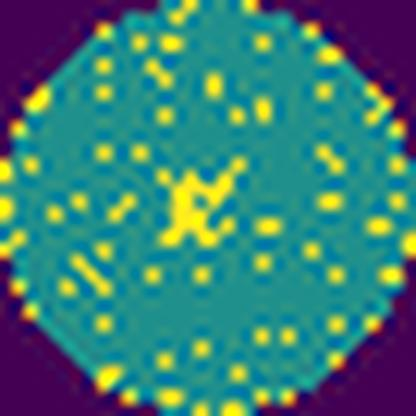Center: (158, 153, 247, 250)
